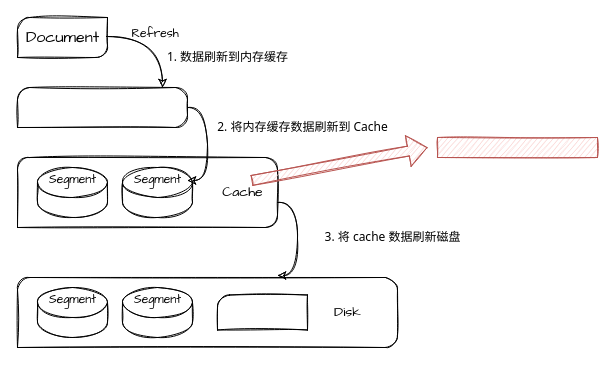
The diagram is 615 pixels wide and 365 high, and some of its shapes have lost their labels. Here are the shapes that lost their labels. From the top down, the centre of each, then its label:
(x=102, y=107): In-memery buffer
(x=517, y=147): 此时就已经可以读取了
(x=262, y=312): Commit point
